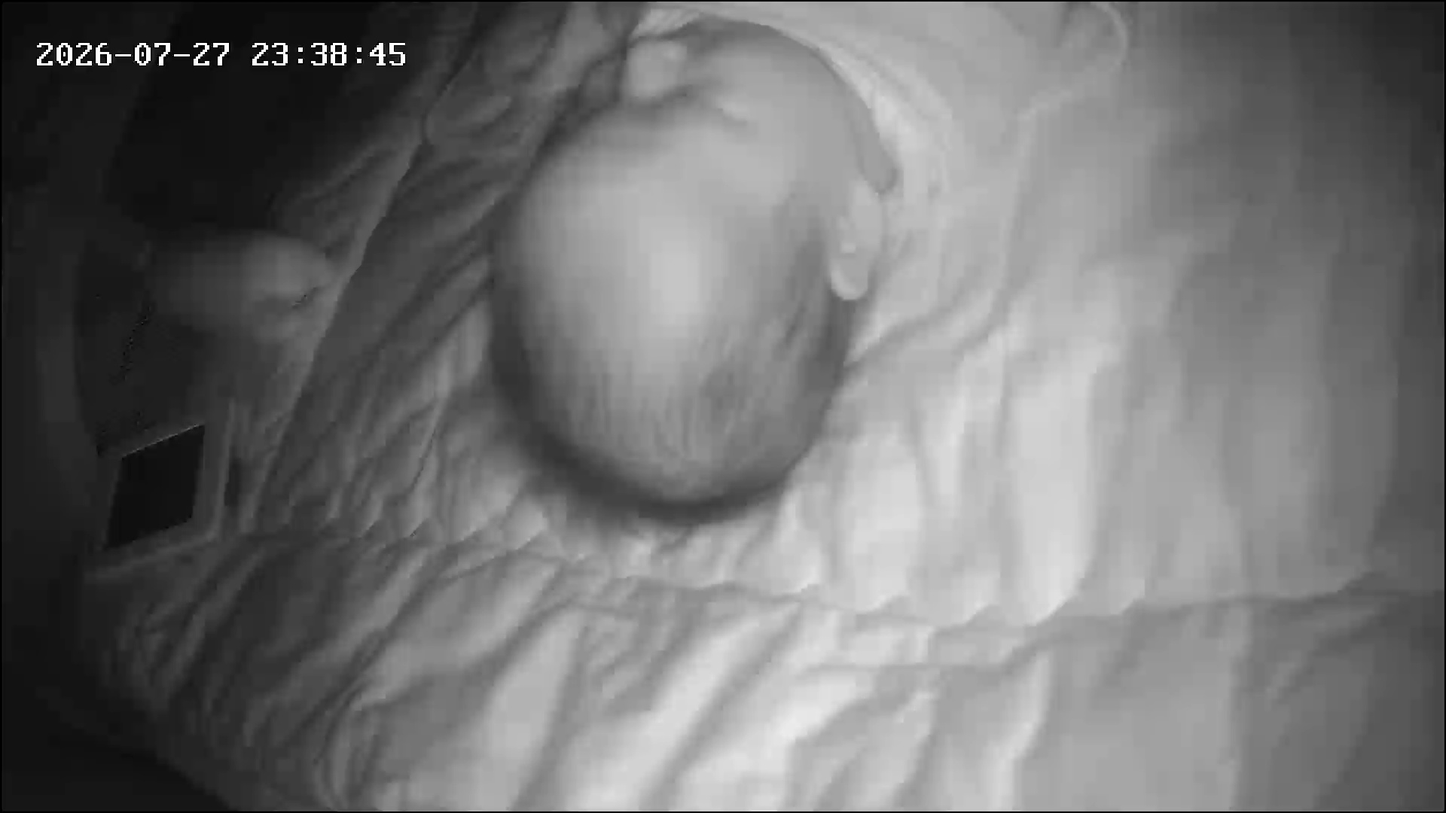baby: (459, 0, 1251, 531), (295, 0, 946, 530)
baby_face: (479, 22, 881, 522)
